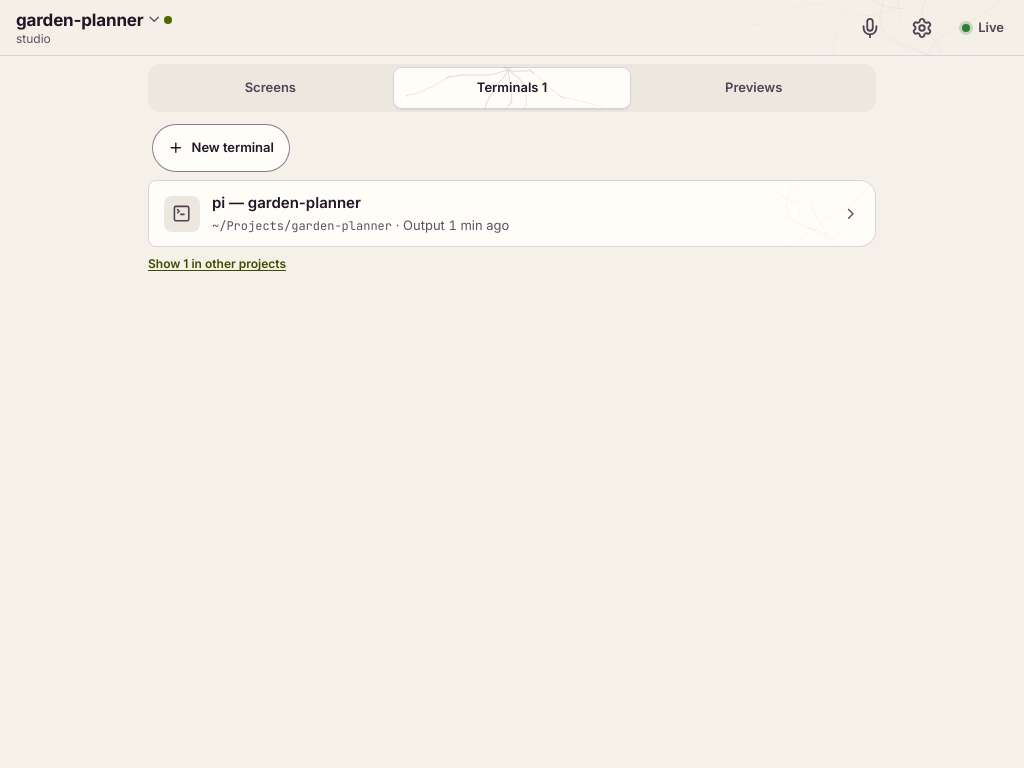
Test: shows the chosen project's previews, the rest on request, and adds to it
Click the radio button labelled "Previews".
click(754, 88)  # box [634,67,873,109]
Wait 900 ms
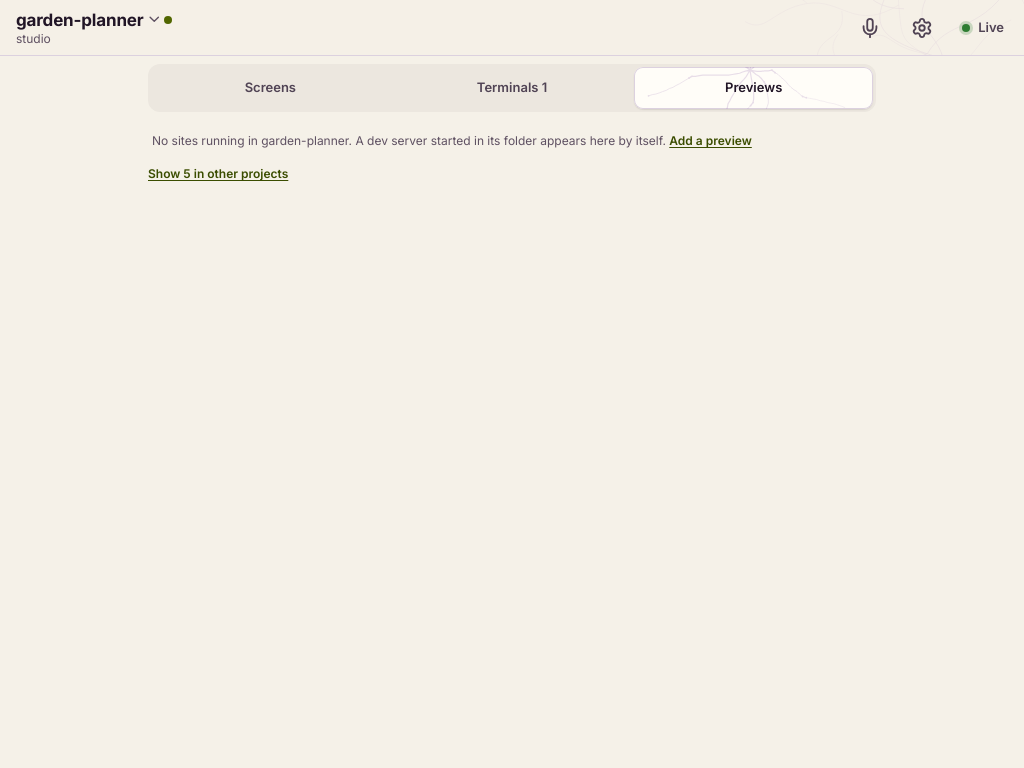
Expected: the element "tidewater-api" is not shown
Result: the text "in garden-planner." is shown at [152,133,669,148]
Click the button "Show 5 in other projects".
click(218, 174)  # box [148,165,288,183]
Wait 900 ms
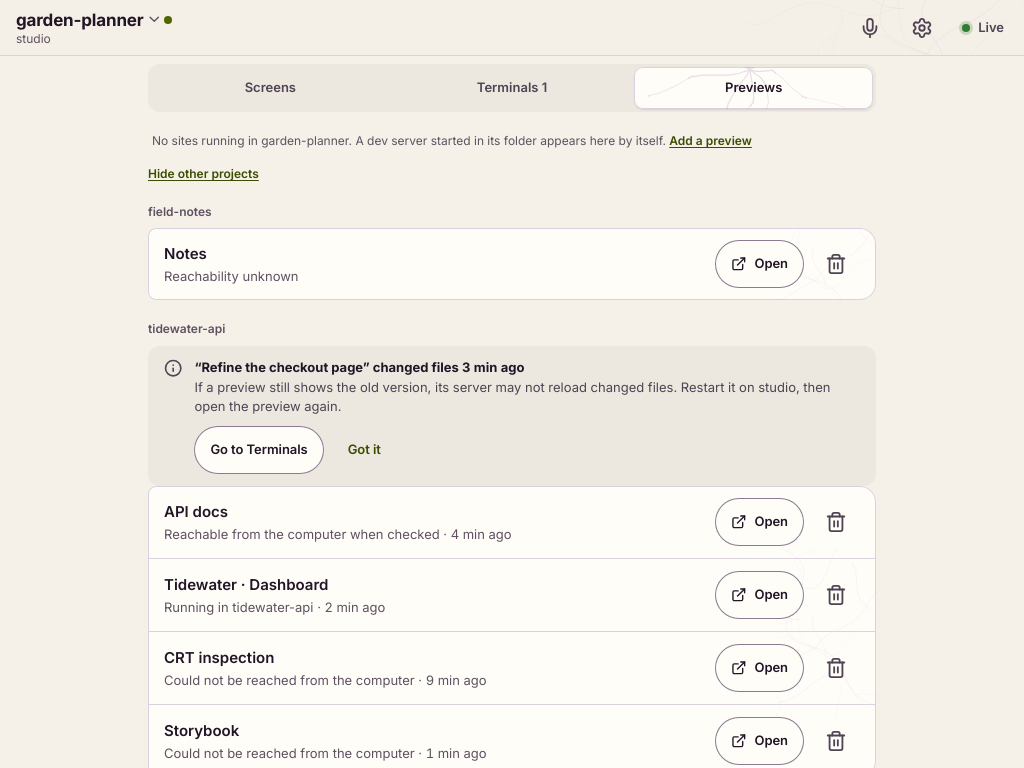
Result: the element "tidewater-api" is shown at [148,320,876,767]
Click the button "Add a preview".
click(711, 141)  # box [669,132,752,149]
Wait 900 ms
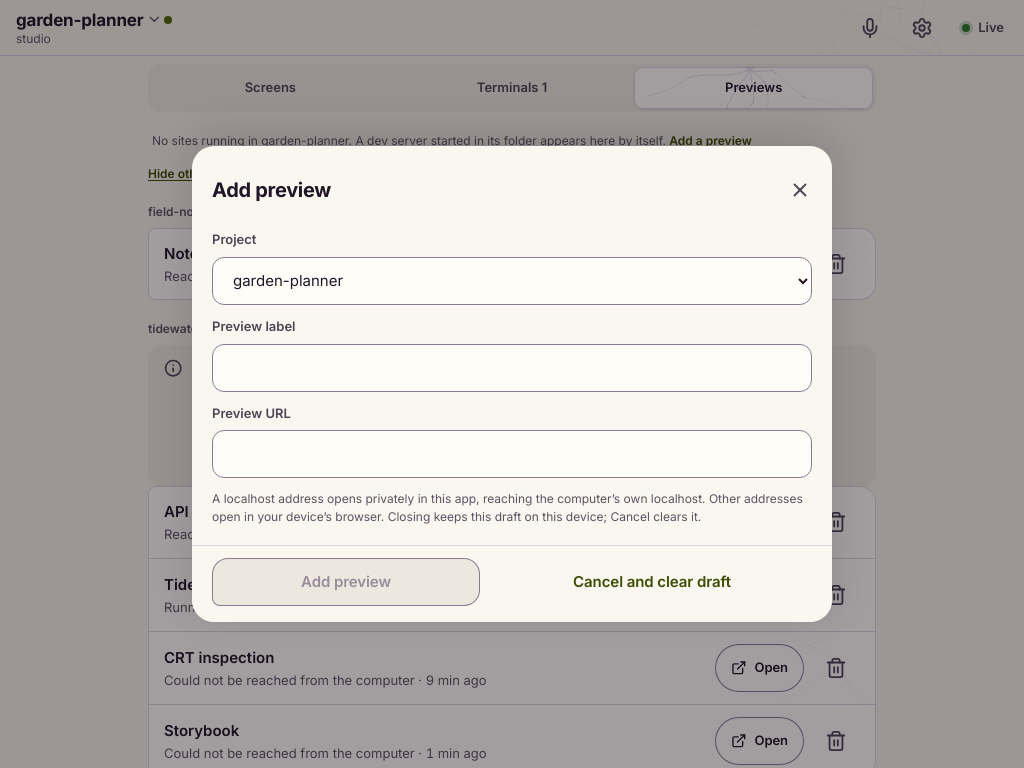
Result: the dropdown labelled "Project" shows "garden-planner" at [212,257,812,305]
